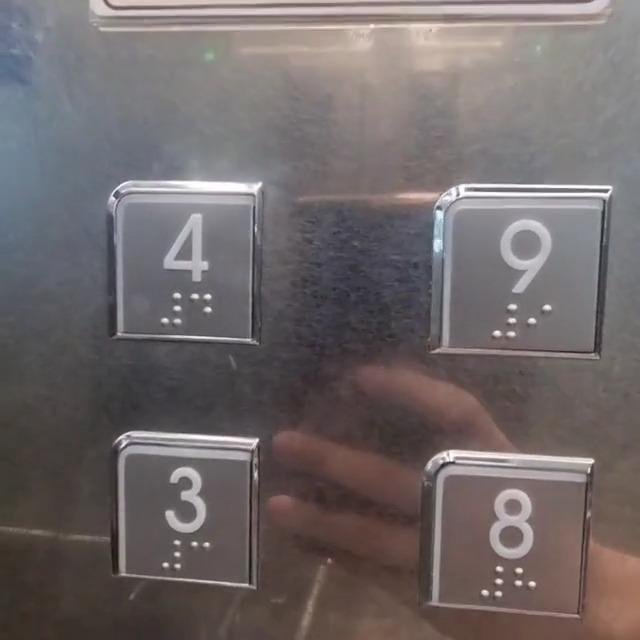button: (427, 454, 594, 627), (109, 185, 263, 358), (452, 192, 591, 354), (116, 442, 259, 595)
